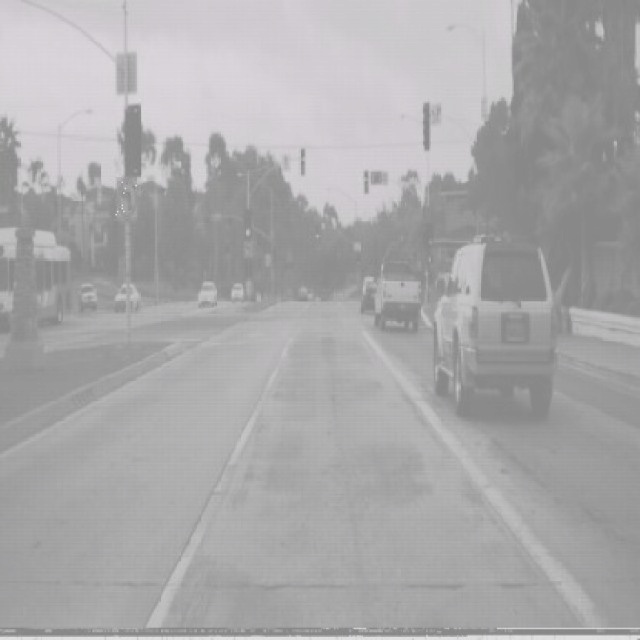noLeftTurn: (115, 176, 138, 220)
